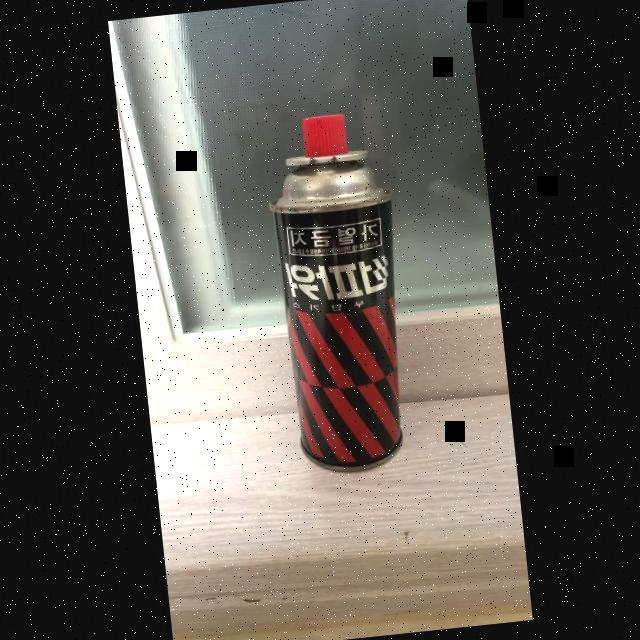chemical_spray_can: (226, 98, 455, 510)
